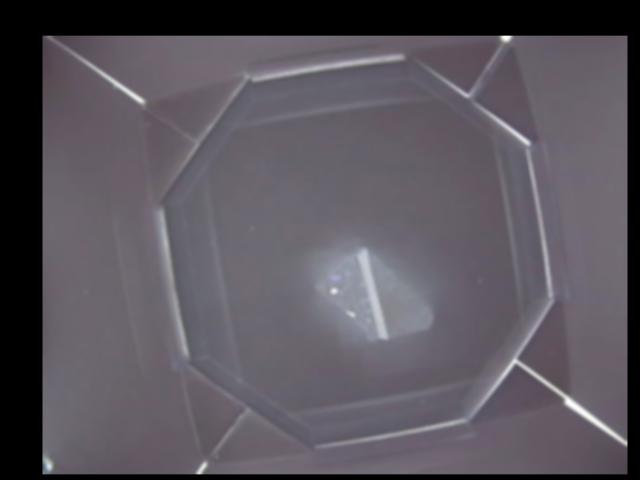China: (316, 246, 431, 340)
